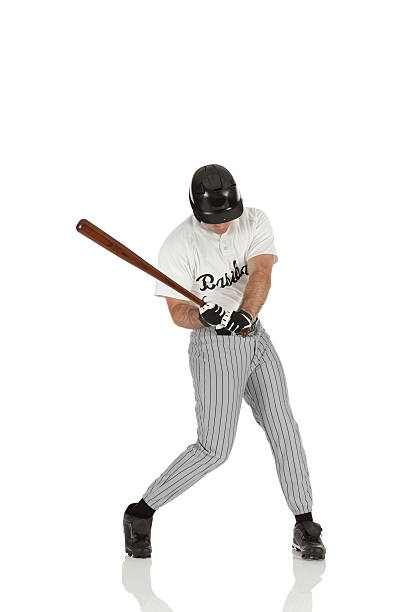bita: (66, 219, 220, 319)
